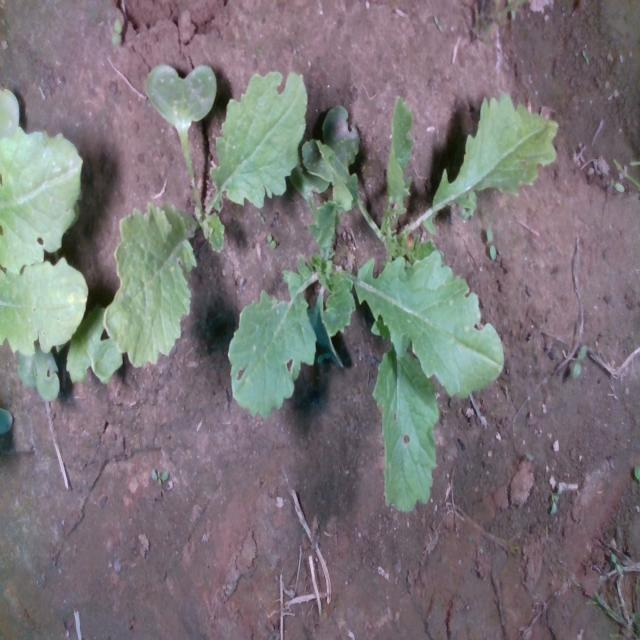weed: (571, 342, 587, 380), (485, 224, 496, 260), (150, 466, 170, 484), (266, 232, 276, 251)
